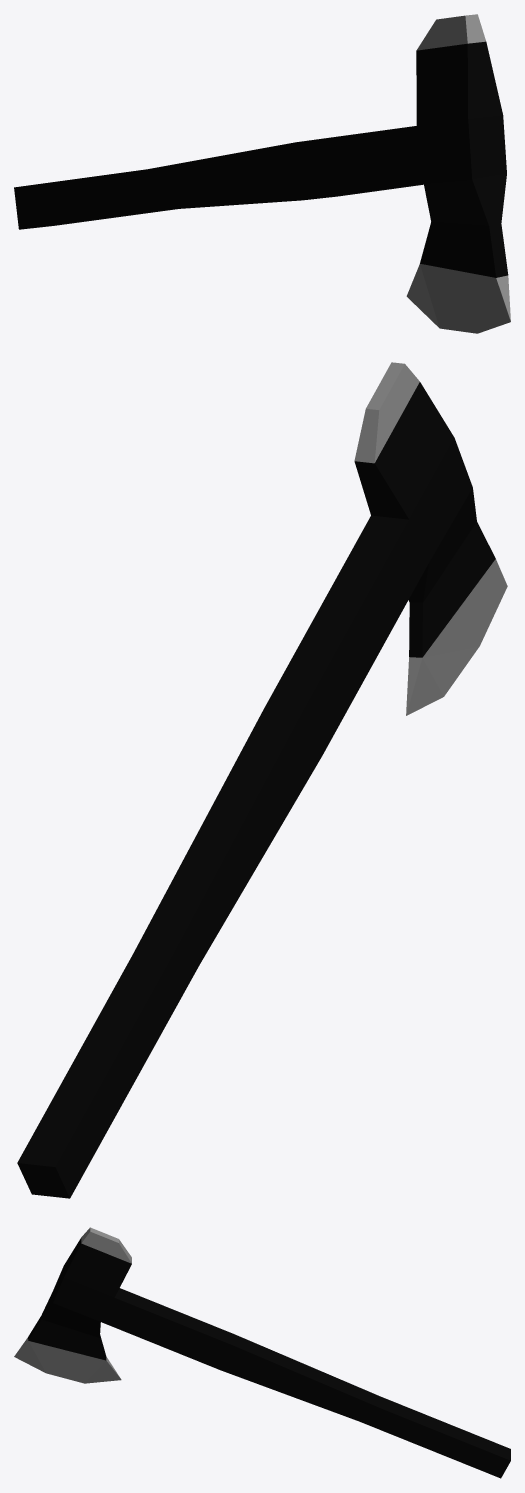
File: Axe.fbx
3 renders of one model, top to bottom at view 1: azimuth 30°, elevation 25°; view 2: azimuth 150°, elevation 25°; view 3: azimuth 270°, elevation 25°, orthographic. The views are drawn at different scales.
Parts seen in each view (by area): view 1: Axe; view 2: Axe; view 3: Axe.
Part boxes in pixels (x1,y1,x2,y2): Axe: [14, 14, 510, 333]; Axe: [17, 362, 507, 1198]; Axe: [14, 1227, 510, 1478].
Size of the model in its own units: 15.01 by 82.33 by 142.
